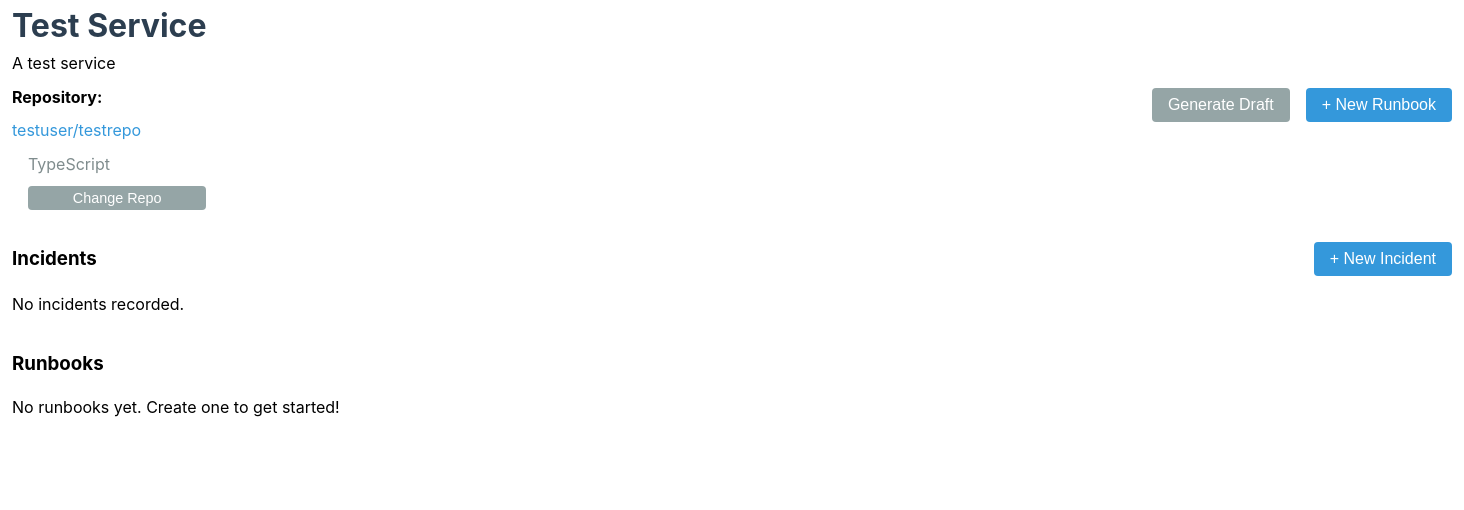
Test: ServiceDetailPage › shows error message when generation fails
Click the button "Generate Draft". click: [1221, 105]
box: [1152, 88, 1290, 122]
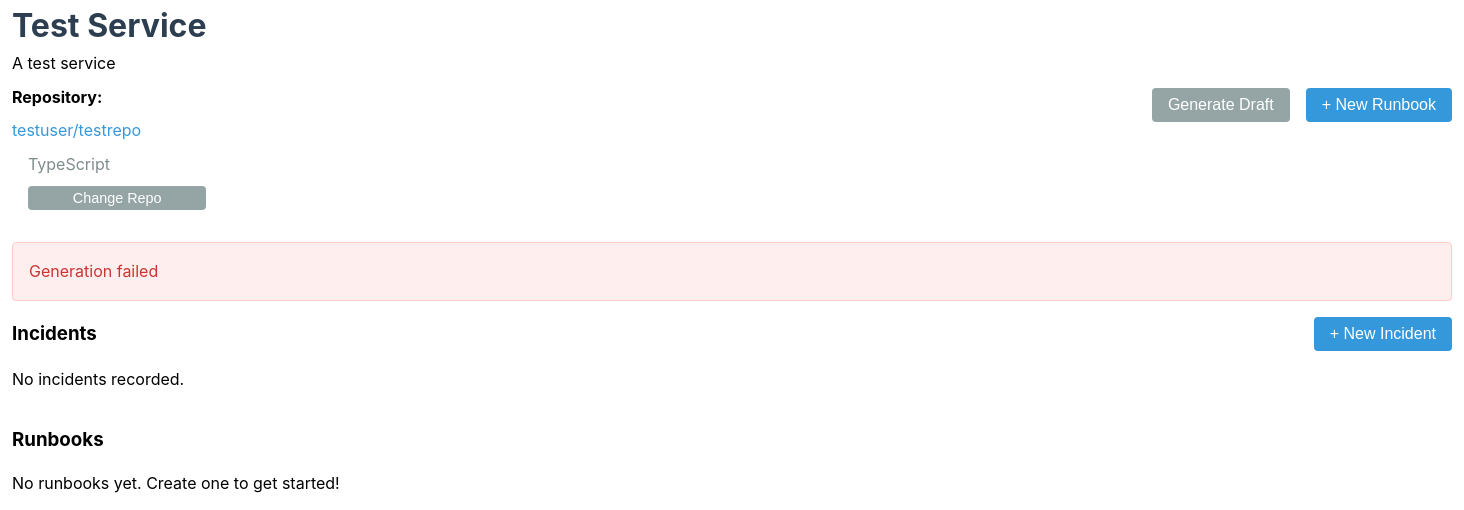
Check: the text "Generation failed" is shown, box [12, 242, 1452, 301]
